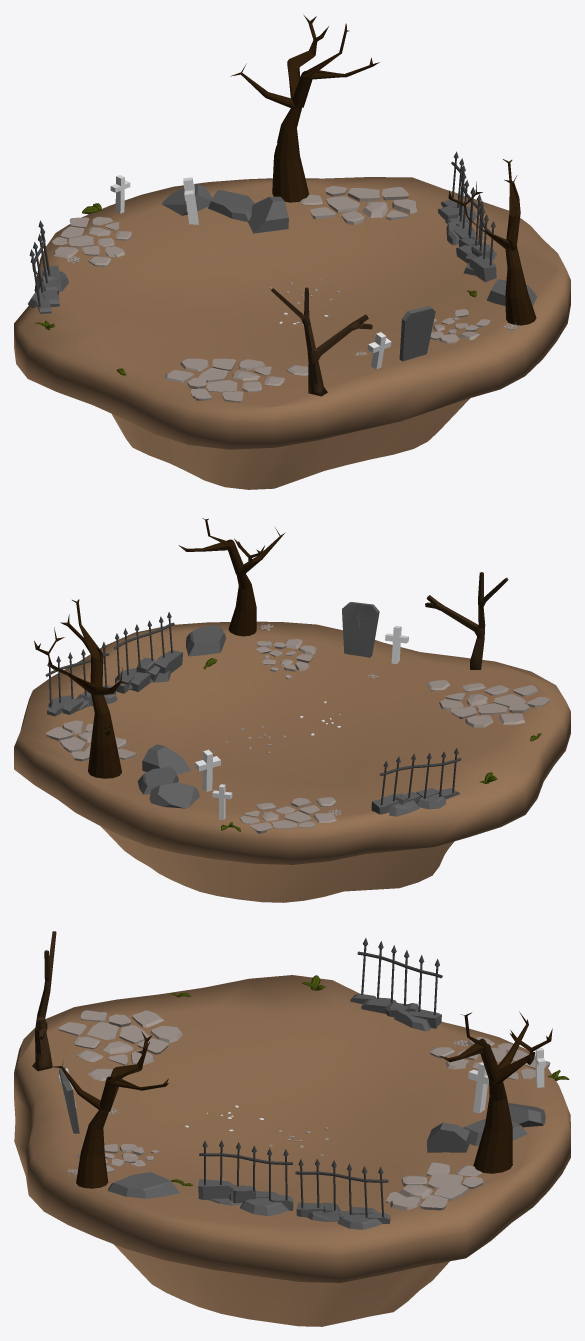
Rendered from island.glb.
3 views of the same model, one above another, from view 1: azimuth 30°, elevation 25°; view 2: azimuth 150°, elevation 25°; view 3: azimuth 270°, elevation 25° (orthographic). The views are drawn at different scales.
Visible parts, largest first — view 1: Circle, Circle.003, pietre.003, pietre.004, Circle.002, pietre, Trunk, Circle.001, Cube.004, Cube.002, pietre.001, Cube.001 (+2 smaller); view 2: Circle, Circle.003, pietre.003, Circle.002, pietre, Circle.001, pietre.004, Trunk, pietre.001, Cube.001, Cube.018, Cube.004 (+5 smaller); view 3: Circle, Circle.003, pietre.003, Circle.002, pietre.004, Trunk, Cube.018, pietre, Cube.004, Plane.005, Plane.004, pietre.001 (+8 smaller).
Boxes of the visible parts, x1,y1,x2,y2 form: Circle: (14, 177, 570, 489); Circle.003: (231, 14, 379, 202); pietre.003: (164, 358, 308, 402); pietre.004: (300, 186, 417, 224); Circle.002: (448, 159, 536, 325); pietre: (51, 216, 131, 266); Trunk: (271, 287, 372, 396); Circle.001: (399, 306, 435, 361); Cube.004: (248, 196, 288, 233); Cube.002: (208, 190, 254, 221); pietre.001: (430, 317, 490, 343); Cube.001: (162, 184, 212, 215); Circle: (14, 621, 570, 902); Circle.003: (34, 599, 131, 778); pietre.003: (427, 680, 549, 727); Circle.002: (178, 518, 285, 636); pietre: (239, 797, 336, 833); Circle.001: (342, 602, 379, 657); pietre.004: (46, 720, 136, 761); Trunk: (425, 572, 508, 669); pietre.001: (257, 639, 316, 679); Cube.001: (149, 782, 199, 808); Cube.018: (186, 625, 225, 656); Cube.004: (142, 744, 191, 774); Circle: (14, 975, 570, 1326); Circle.003: (439, 1011, 552, 1173); pietre.003: (59, 1010, 182, 1081); Circle.002: (50, 1031, 168, 1188); pietre.004: (386, 1162, 483, 1210); Trunk: (32, 931, 56, 1071); Cube.018: (108, 1172, 179, 1198); pietre: (430, 1037, 550, 1080); Cube.004: (427, 1123, 470, 1152); Plane.005: (361, 938, 439, 1015); Plane.004: (298, 1158, 384, 1217); pietre.001: (77, 1144, 158, 1172).
Bounding box in the file's own units: 12.3 × 6.76 × 10.96.
